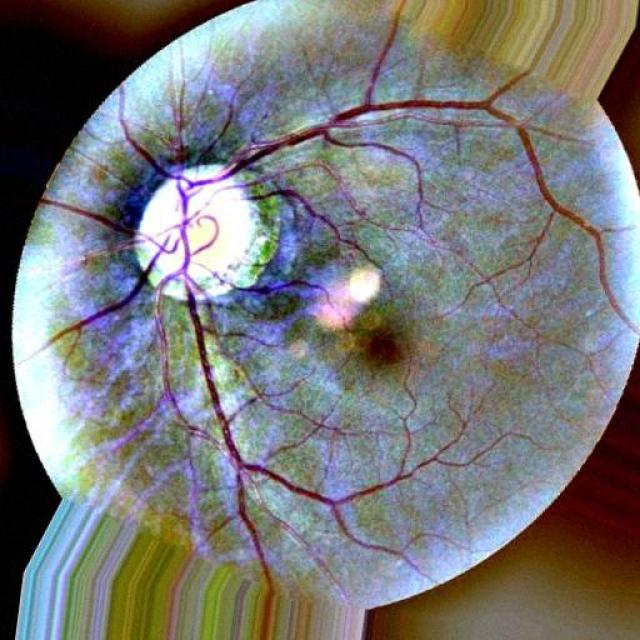Macula: (349, 326, 406, 371)
Nerves: (40, 11, 639, 594), (250, 186, 370, 259)
Optic Disk: (134, 165, 254, 300)
